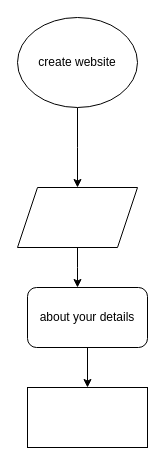
This 165x465 diagram has some shape labels left out. The shapes that lost their labels are listed below. From the top down, each one's centre as x and y in pixels, then its label:
At point 77,217: "home".
At point 87,417: "give contact details".
